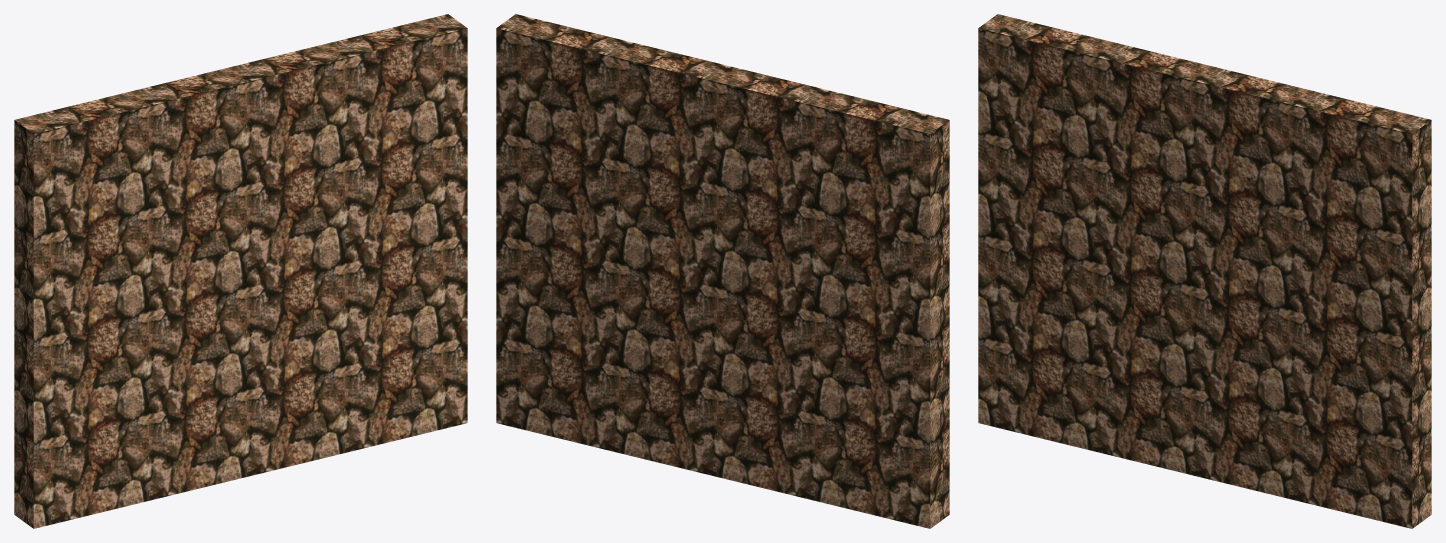
File: Mine_brush.glb
3 renders of one model, left to right at view 1: azimuth 30°, elevation 25°; view 2: azimuth 150°, elevation 25°; view 3: azimuth 330°, elevation 25°, orthographic.
Visible parts, largest first — view 1: Mine; view 2: Mine; view 3: Mine.
Part boxes in pixels (box(x1,y1,x2,y2)): Mine: box(14, 14, 467, 528); Mine: box(496, 14, 949, 528); Mine: box(978, 14, 1431, 528).
Bounding box in the file's own units: 567 × 493 × 44.
Materials: 1 (1 with a texture image).
